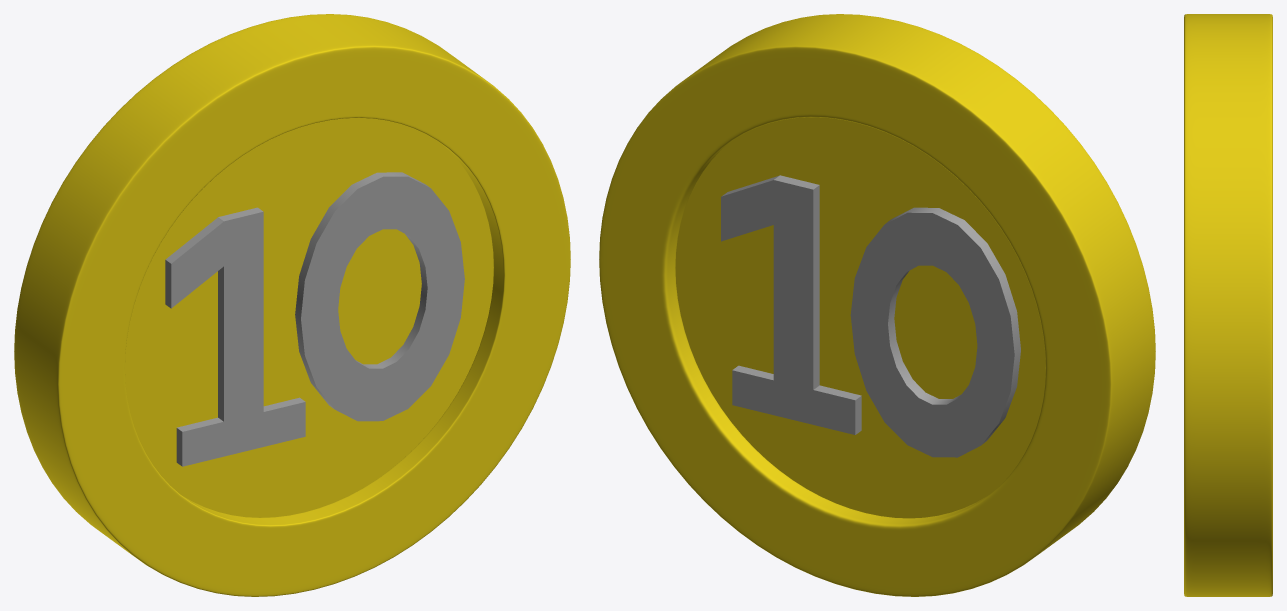
The model's file is Coin_10.fbx.
3 renders of one model, left to right at view 1: azimuth 30°, elevation 25°; view 2: azimuth 150°, elevation 25°; view 3: azimuth 270°, elevation 25°, orthographic.
Parts seen in each view (by area): view 1: coinInner1; view 2: coinInner1; view 3: coinInner1.
Part boxes in pixels (x1,y1,x2,y2): coinInner1: (14, 14, 570, 596); coinInner1: (599, 14, 1155, 596); coinInner1: (1184, 14, 1272, 596).
Bounding box in the file's own units: 1.39 × 1.38 × 0.2112.
